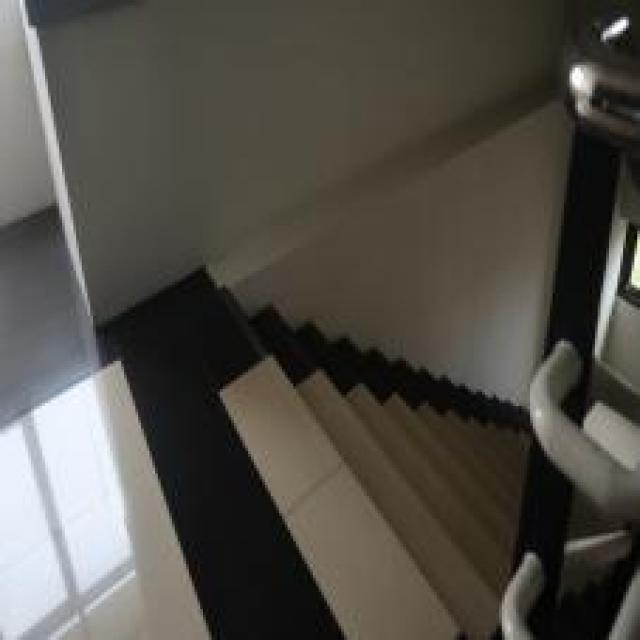downstair: (210, 289, 523, 607)
